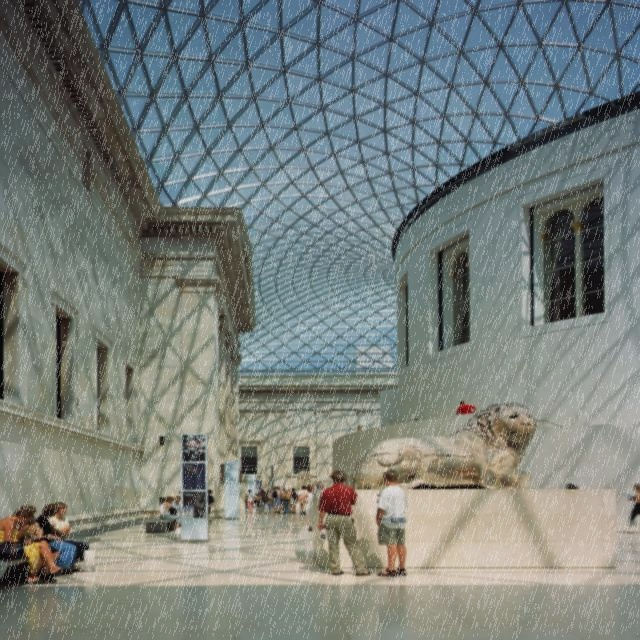pessoa: (316, 470, 374, 578), (0, 507, 74, 585), (374, 468, 412, 578), (15, 504, 62, 583), (47, 501, 91, 574), (35, 502, 77, 573), (298, 483, 318, 532), (160, 496, 182, 532), (624, 482, 639, 531), (181, 434, 206, 462), (169, 494, 181, 530), (203, 489, 215, 522), (244, 488, 258, 516), (455, 400, 478, 416), (297, 484, 308, 516), (270, 486, 282, 514), (280, 488, 292, 514), (259, 490, 269, 514), (290, 487, 298, 514), (264, 489, 274, 510), (278, 487, 286, 510), (564, 480, 578, 490), (254, 492, 262, 508), (268, 490, 274, 510), (356, 424, 366, 432), (316, 482, 326, 489)
